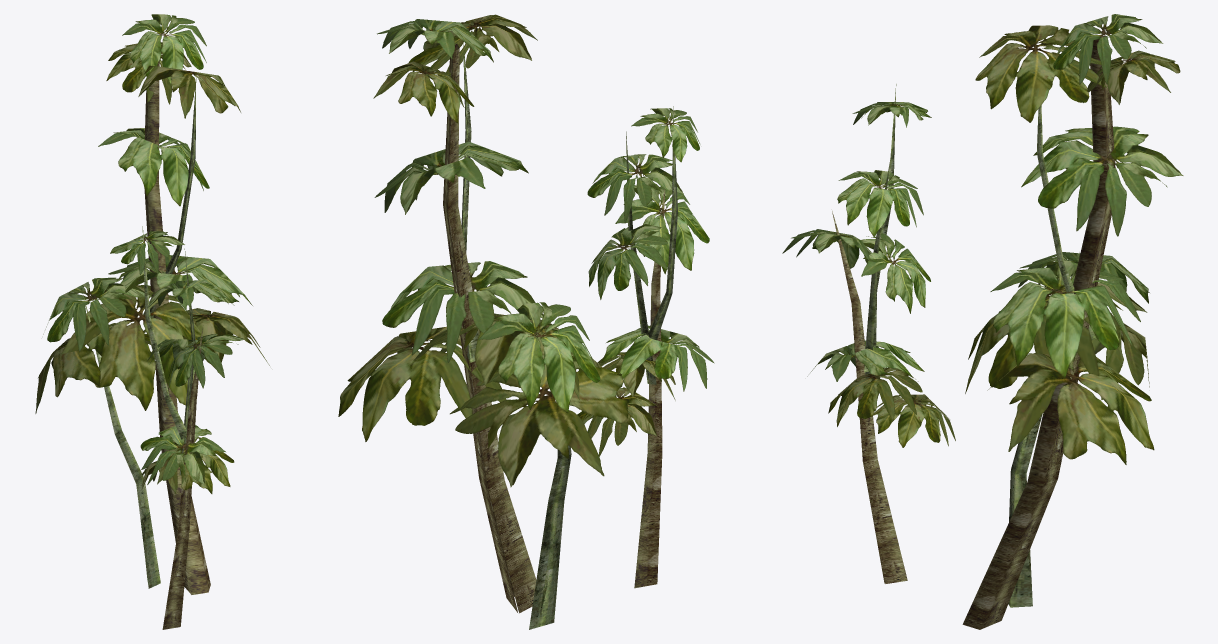
File: S_Tree_Green058.FBX
3 views of the same model, side by side, from view 1: azimuth 30°, elevation 25°; view 2: azimuth 150°, elevation 25°; view 3: azimuth 270°, elevation 25° (orthographic). The views are drawn at different scales.
Visible parts, largest first — view 1: S_Tree_Green058; view 2: S_Tree_Green058; view 3: S_Tree_Green058.
Boxes of the visible parts, x1=… form: S_Tree_Green058: x1=35, y1=14, x2=269, y2=629; S_Tree_Green058: x1=338, y1=14, x2=714, y2=629; S_Tree_Green058: x1=782, y1=14, x2=1183, y2=629.
Bounding box in the file's own units: 154 × 199 × 308.
